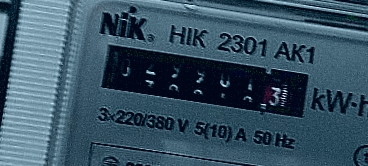0: (216, 63, 233, 90), (115, 54, 134, 78)
1: (241, 68, 257, 92)
2: (141, 55, 160, 76)
3: (266, 82, 282, 106)
9: (191, 61, 208, 85), (166, 57, 182, 81)
screen: (86, 31, 320, 128)
